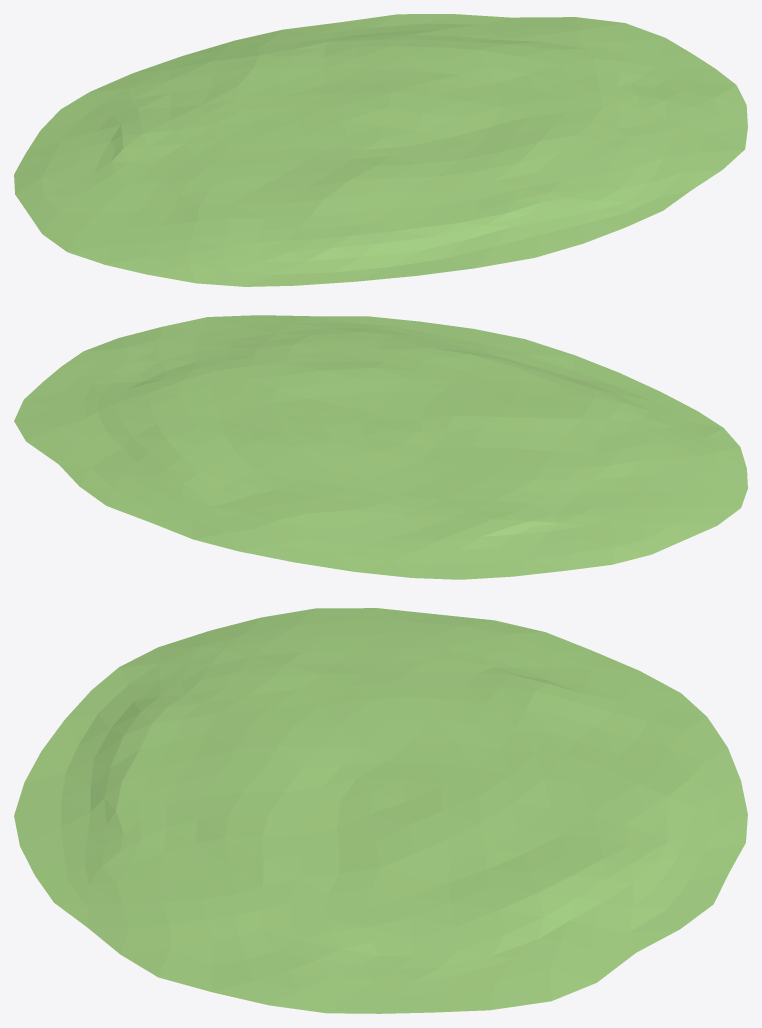
Rendered from GroundLump_02.fbx.
3 views of the same model, one above another, from view 1: azimuth 30°, elevation 25°; view 2: azimuth 150°, elevation 25°; view 3: azimuth 270°, elevation 25° (orthographic). The views are drawn at different scales.
Parts seen in each view (by area): view 1: GroundLump1.001; view 2: GroundLump1.001; view 3: GroundLump1.001.
Boxes of the visible parts, x1,y1,x2,y2 form: GroundLump1.001: [14, 14, 747, 286]; GroundLump1.001: [14, 315, 747, 579]; GroundLump1.001: [14, 608, 747, 1013].
Size of the model in its own units: 10886 by 275 by 8322.
